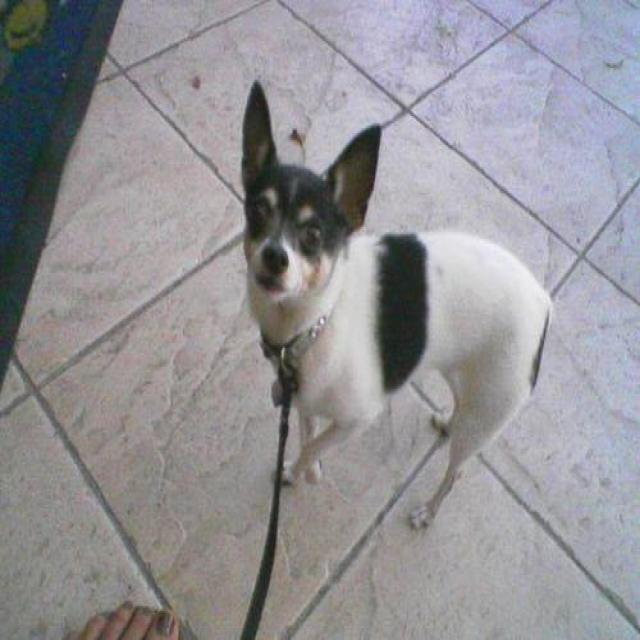toy_terrier: (238, 80, 556, 529)
